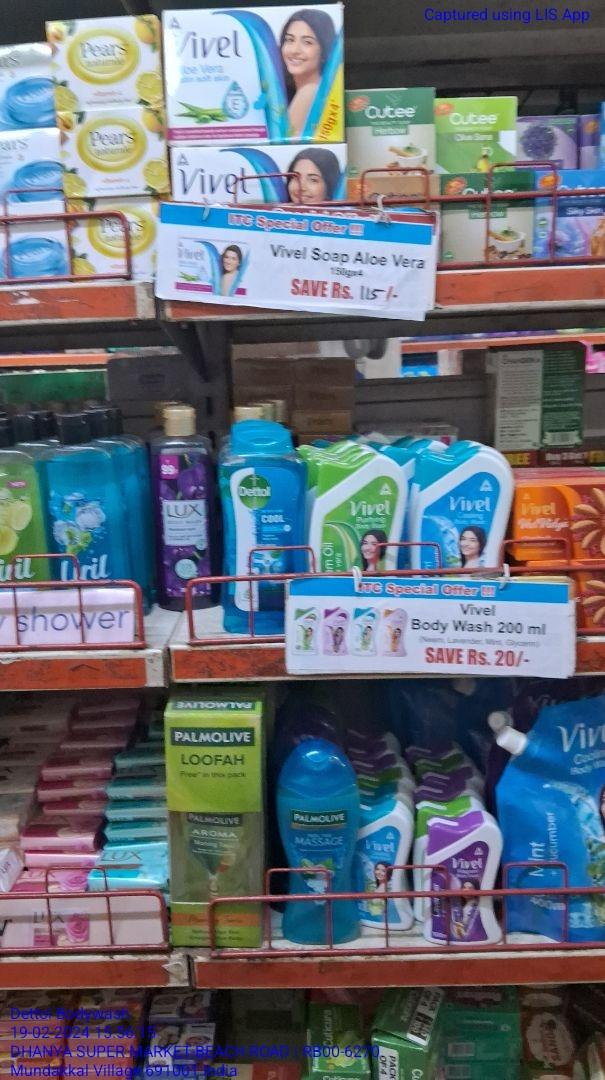Dettol_Bodywash_Cool: (225, 422, 308, 640)
Liril_Cooling_Mint_Body_Wash_250ML: (42, 414, 133, 618)
Lux_Black_Orchid_Scent_and_Juniper_Oil_Body_Wash_245ML: (159, 403, 218, 611)
Palmolive_Aroma_Moments_Feel_The_Massage_Shower_Gel_250ML: (279, 743, 360, 948)
